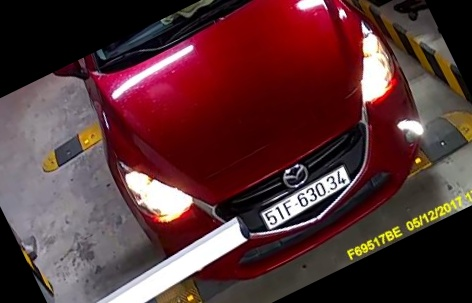plate: (250, 165, 364, 229)
